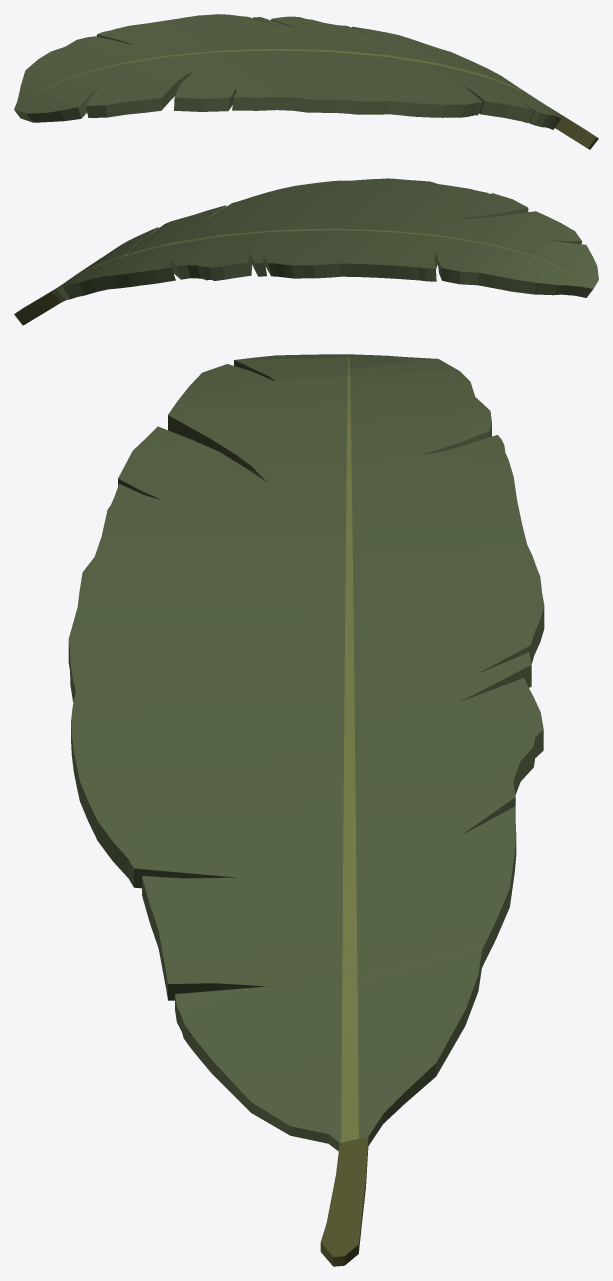
File: leaf.fbx
3 views of the same model, one above another, from view 1: azimuth 30°, elevation 25°; view 2: azimuth 150°, elevation 25°; view 3: azimuth 270°, elevation 25° (orthographic). The views are drawn at different scales.
Visible parts, largest first — view 1: Plane; view 2: Plane; view 3: Plane.
Part boxes in pixels (x1,y1,x2,y2): Plane: (14,14,598,149); Plane: (14,178,598,325); Plane: (68,354,544,1266).
Bounding box in the file's own units: 411 × 133 × 146.
